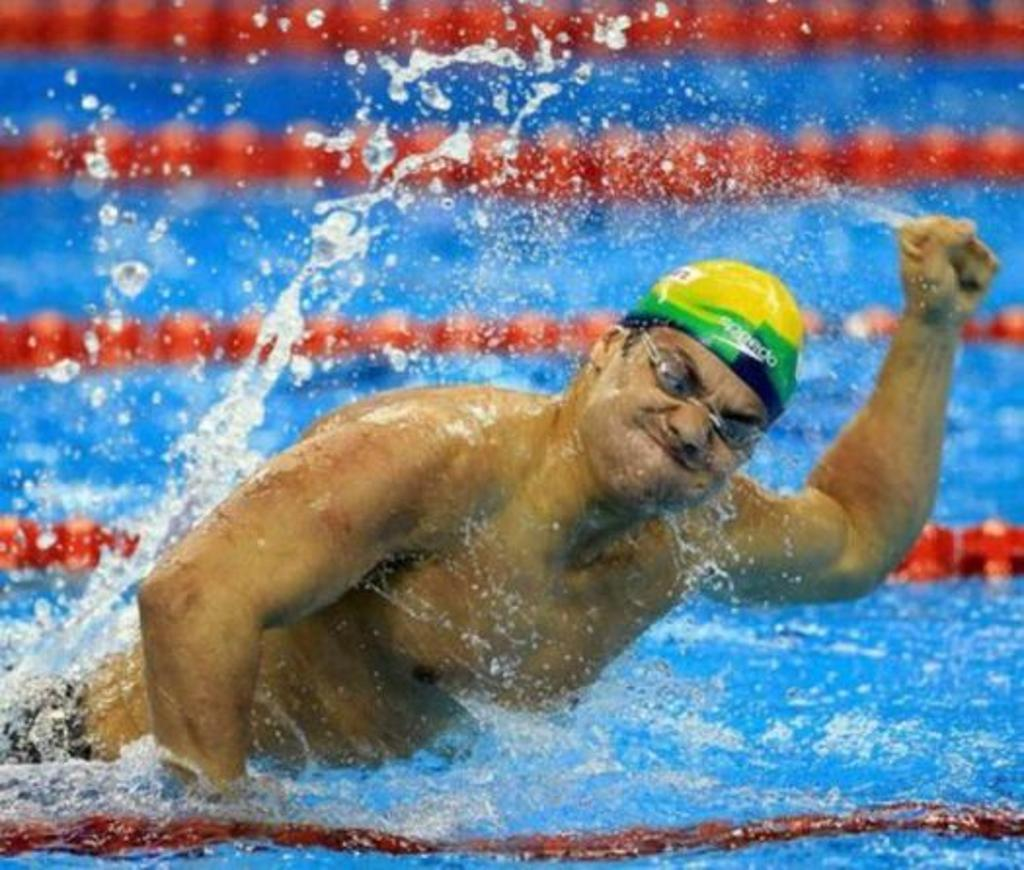face: (596, 348, 770, 512)
